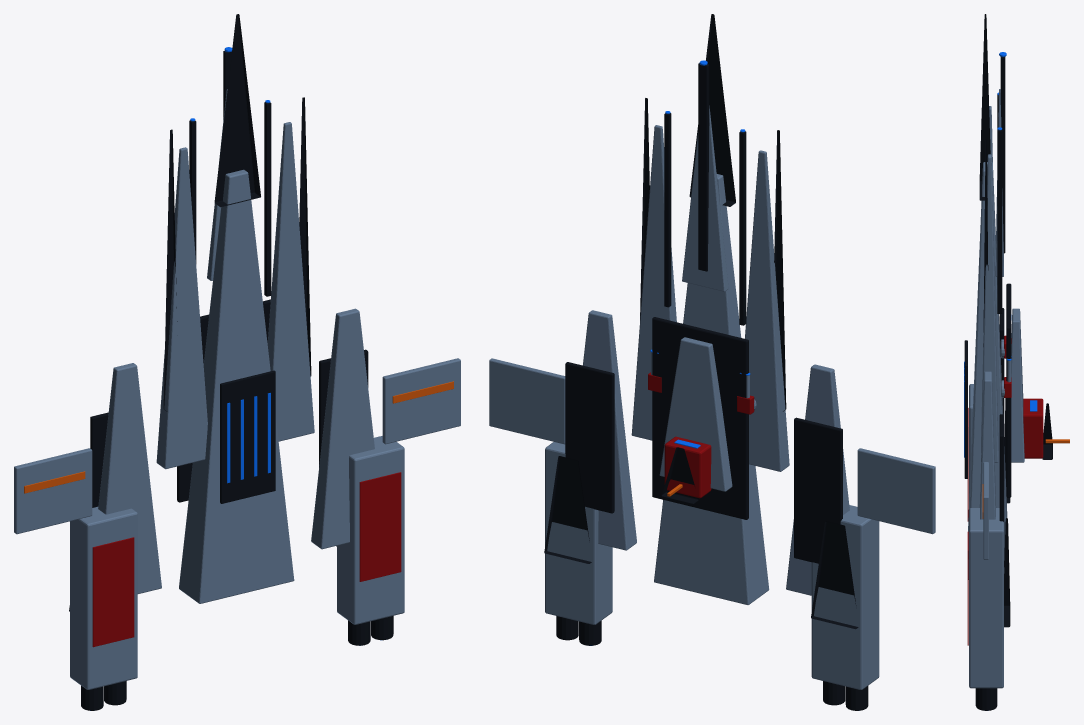
File: FortressBattleshipBoss.obj
The picture shows the model from 3 angles, left to right: view 1: azimuth 30°, elevation 25°; view 2: azimuth 150°, elevation 25°; view 3: azimuth 270°, elevation 25°; orthographic projection. The views are drawn at different scales.
Parts seen in each view (by area): view 1: Fortress_MainHull, Fortress_L_ForwardSponson, Fortress_R_ForwardSponson, Fortress_R_RearWing, Fortress_L_RearWing, Fortress_L_Nacelle, Fortress_R_Nacelle, Fortress_VentralHangar, Fortress_L_WingTip, Fortress_R_WingTip, Fortress_L_NacelleStripe, Fortress_R_NacelleStripe (+8 smaller); view 2: Fortress_MainHull, Fortress_CentralDeck, Fortress_L_Nacelle, Fortress_L_ForwardSponson, Fortress_R_Nacelle, Fortress_R_RearDeck, Fortress_L_RearDeck, Fortress_CentralArmor, Fortress_R_ForwardSponson, Fortress_L_WingTip, Fortress_R_WingTip, Fortress_R_RearWing (+12 smaller); view 3: Fortress_R_Nacelle, Fortress_MainHull, Fortress_R_ForwardSponson, Fortress_CentralArmor, Fortress_R_RearWing, Fortress_Bridge, Fortress_BowBlade, Fortress_R_ForwardGun, Fortress_CentralDeck, Fortress_BowSpine, Fortress_R_RearDeck, Fortress_R_NacelleArmor (+10 smaller).
Part boxes in pixels (left/top/right/bottom): Fortress_MainHull: left=179, top=169, right=294, bottom=603; Fortress_L_ForwardSponson: left=156, top=147, right=207, bottom=469; Fortress_R_ForwardSponson: left=267, top=122, right=314, bottom=441; Fortress_R_RearWing: left=311, top=308, right=374, bottom=549; Fortress_L_RearWing: left=98, top=363, right=161, bottom=593; Fortress_L_Nacelle: left=70, top=506, right=137, bottom=689; Fortress_R_Nacelle: left=337, top=436, right=404, bottom=624; Fortress_VentralHangar: left=220, top=370, right=275, bottom=503; Fortress_L_WingTip: left=14, top=448, right=92, bottom=534; Fortress_R_WingTip: left=382, top=358, right=460, bottom=444; Fortress_L_NacelleStripe: left=92, top=537, right=134, bottom=647; Fortress_R_NacelleStripe: left=359, top=472, right=401, bottom=581; Fortress_MainHull: left=654, top=174, right=769, bottom=604; Fortress_CentralDeck: left=652, top=317, right=748, bottom=519; Fortress_L_Nacelle: left=811, top=505, right=879, bottom=689; Fortress_L_ForwardSponson: left=745, top=150, right=789, bottom=471; Fortress_R_Nacelle: left=545, top=442, right=612, bottom=624; Fortress_R_RearDeck: left=565, top=362, right=614, bottom=513; Fortress_L_RearDeck: left=794, top=417, right=842, bottom=563; Fortress_CentralArmor: left=659, top=337, right=732, bottom=491; Fortress_R_ForwardSponson: left=631, top=125, right=676, bottom=440; Fortress_L_WingTip: left=857, top=448, right=935, bottom=534; Fortress_R_WingTip: left=489, top=358, right=565, bottom=444; Fortress_R_RearWing: left=583, top=310, right=636, bottom=550; Fortress_R_Nacelle: left=969, top=508, right=1003, bottom=688; Fortress_MainHull: left=968, top=162, right=1007, bottom=579; Fortress_R_ForwardSponson: left=981, top=154, right=998, bottom=462; Fortress_CentralArmor: left=1011, top=308, right=1024, bottom=462; Fortress_R_RearWing: left=979, top=371, right=996, bottom=519; Fortress_Bridge: left=1023, top=398, right=1043, bottom=458; Fortress_BowBlade: left=979, top=14, right=990, bottom=200; Fortress_R_ForwardGun: left=997, top=129, right=1002, bottom=313; Fortress_CentralDeck: left=1006, top=283, right=1011, bottom=497; Fortress_BowSpine: left=1000, top=56, right=1005, bottom=253; Fortress_R_RearDeck: left=999, top=414, right=1004, bottom=566; Fortress_R_NacelleArmor: left=1004, top=518, right=1010, bottom=627.
Size of the model in its own units: 70 by 99.04 by 15.18.
